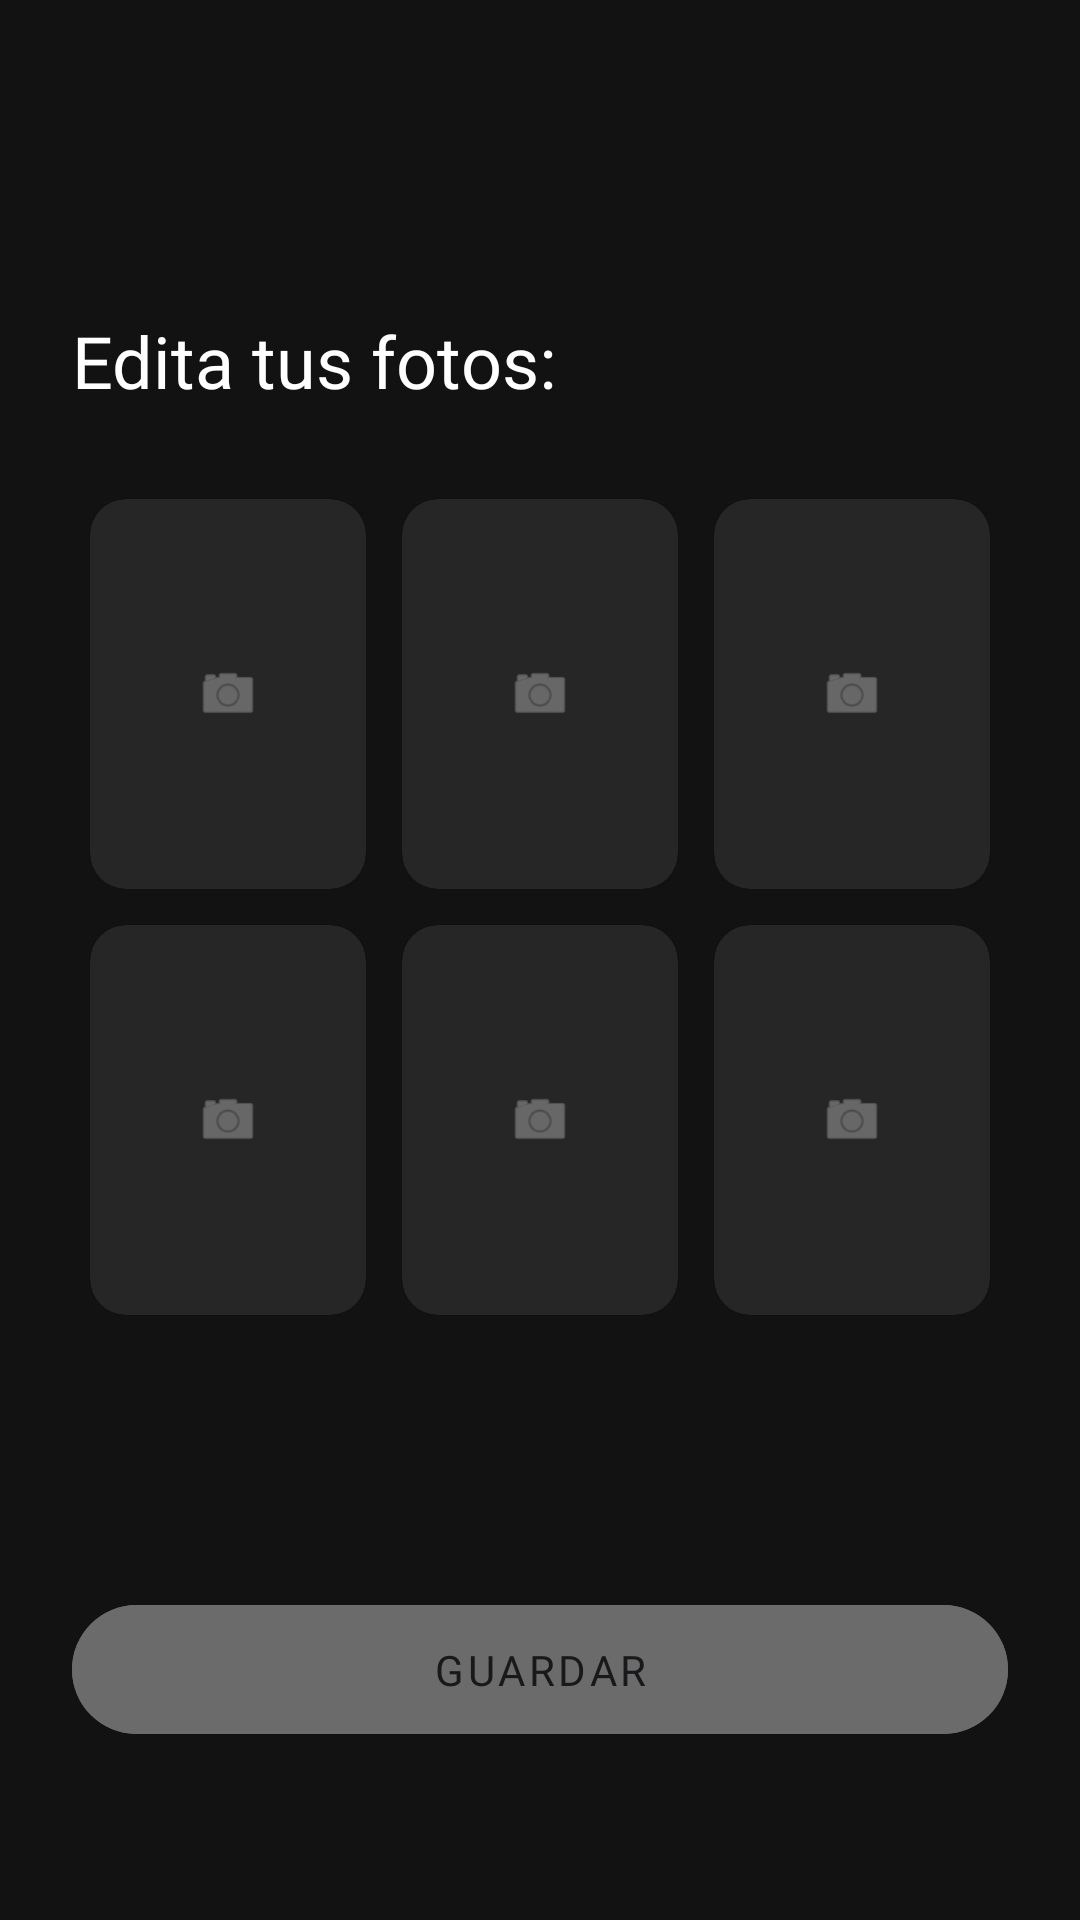

Icons on this 1080w x 1920h Android screen, each with its box as (x1, y1, x2, y2):
camera: (202, 672, 254, 714), (514, 672, 566, 714), (826, 672, 878, 714), (202, 1098, 254, 1140), (514, 1098, 566, 1140), (826, 1098, 878, 1140)
